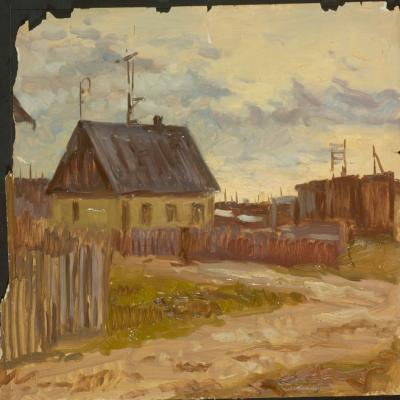painting: (0, 1, 400, 400)
